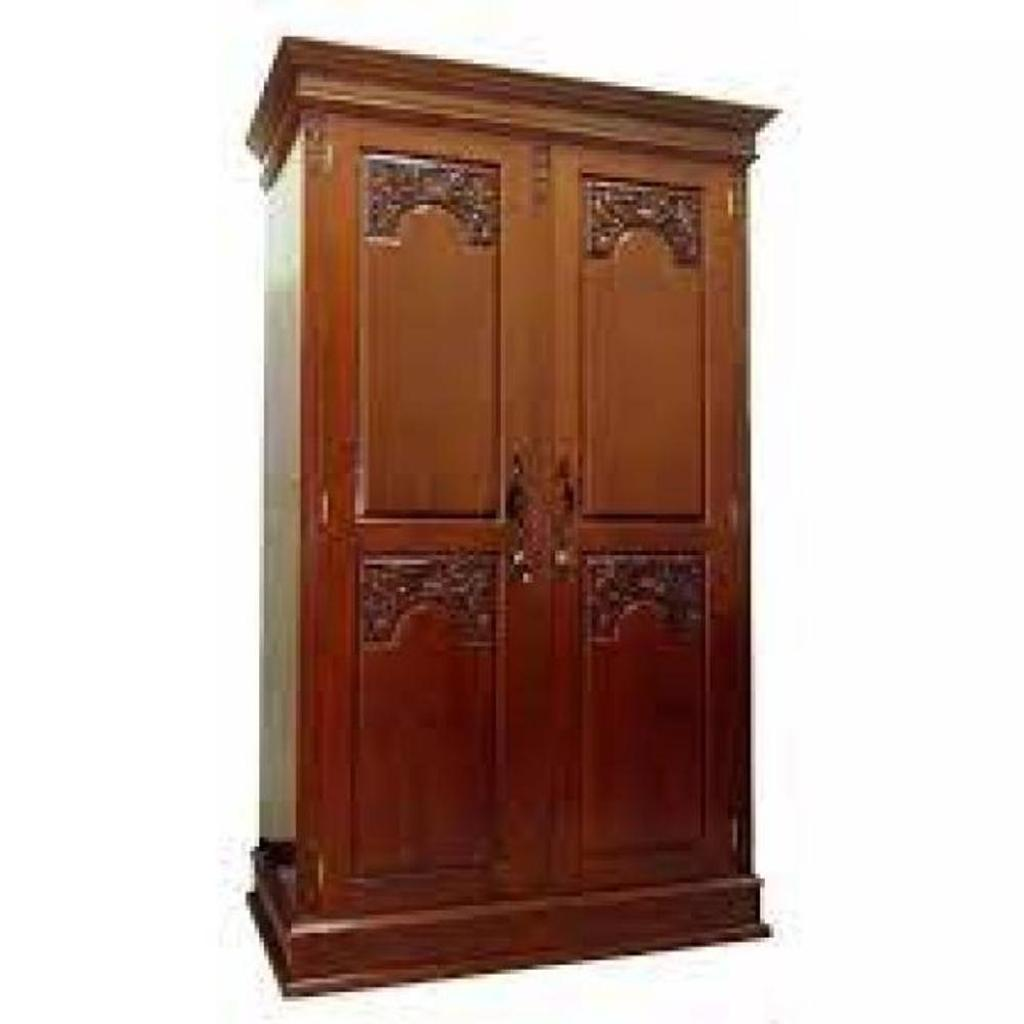cabinet: (248, 20, 786, 1015)
